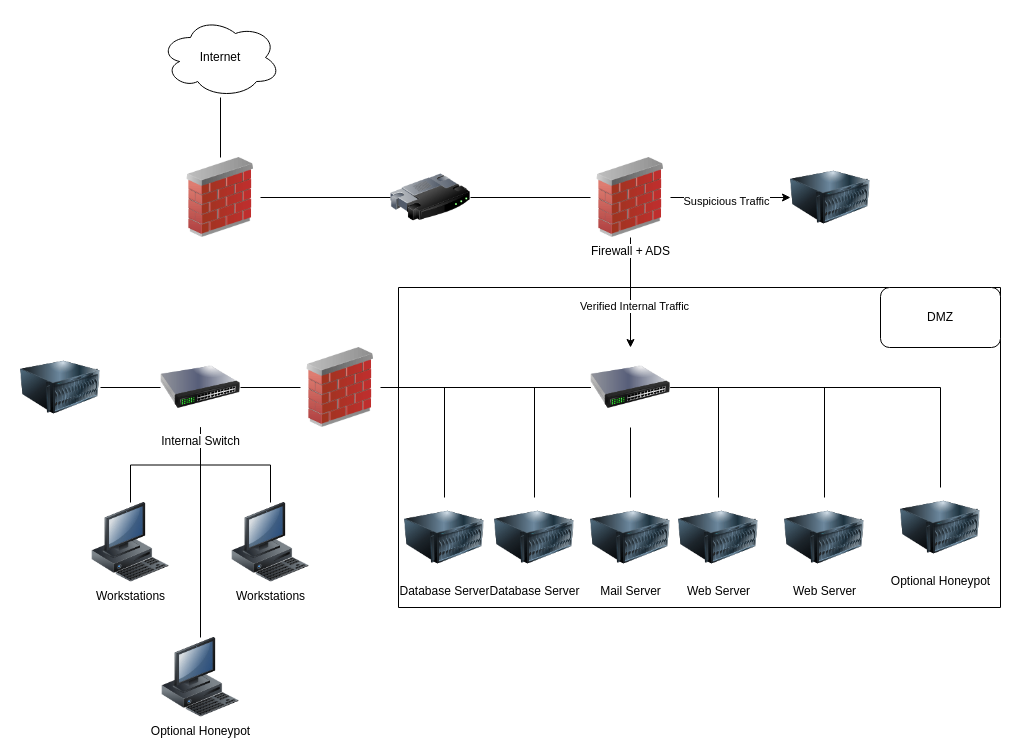
Some shapes in this 1018 by 756 pixel diagram are drawn without their labels. The shapes that lost their labels are listed below. From the top down, each one's centre as x and y in pixels, then its label:
the point at 220,197: External Firewall
the point at 430,197: Router
the point at 830,197: Internal Honeypot
the point at 60,387: Directory Server
the point at 340,387: Internal Firewall
the point at 630,387: Server Switch
